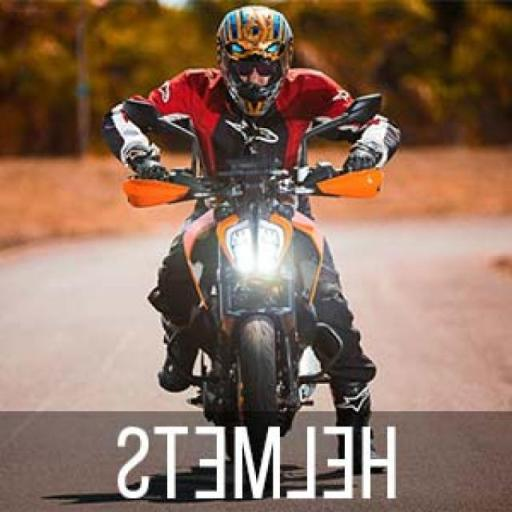Helmet: (217, 6, 292, 115)
Motor: (128, 163, 363, 489)
